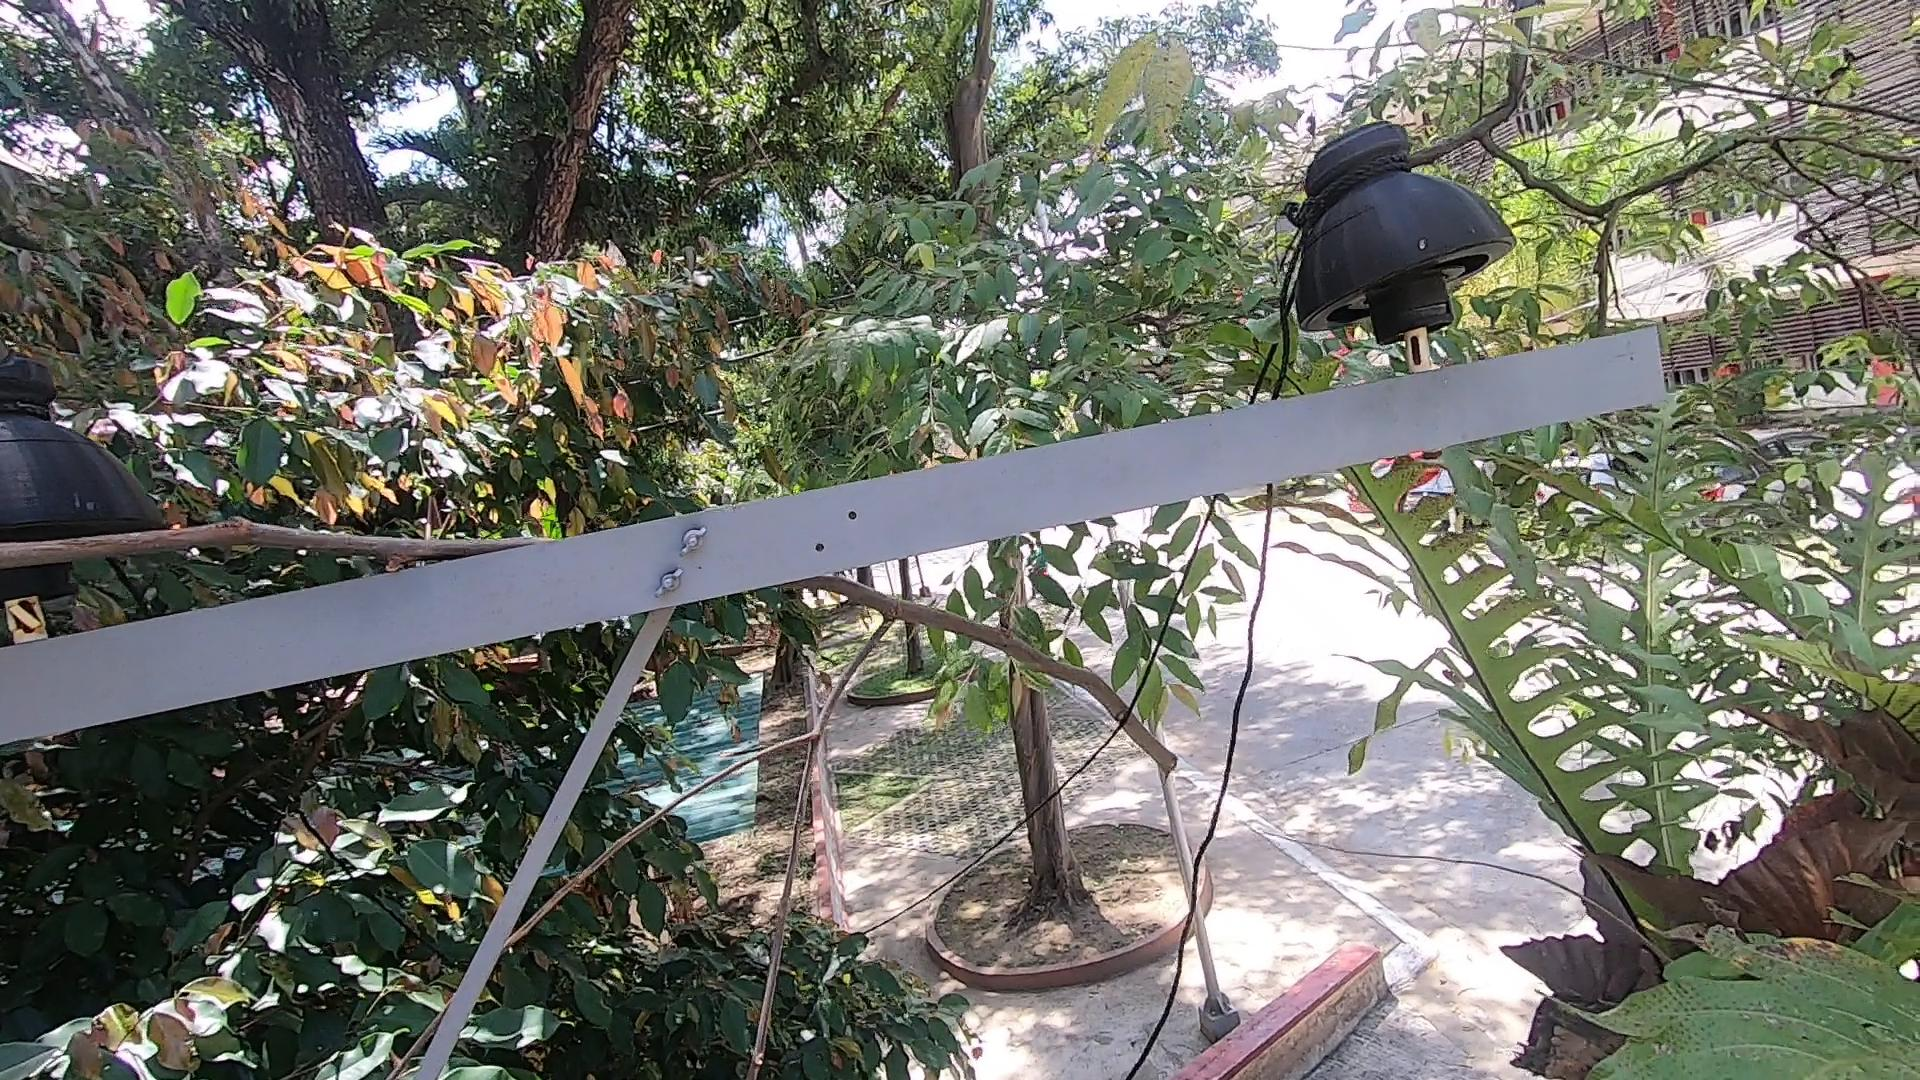tree branch: (388, 563, 1305, 1080), (1, 520, 567, 626)
